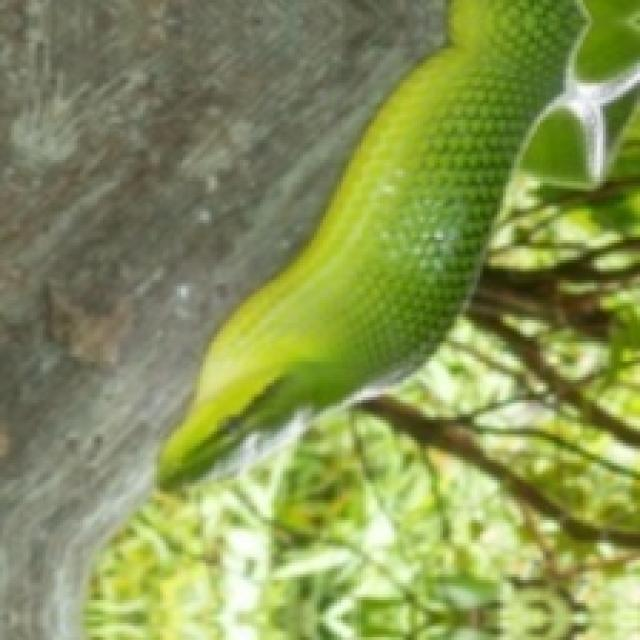red-tailed green ratsnake: (157, 0, 580, 483)
